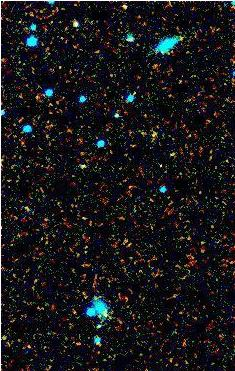star: (105, 0, 135, 24)
